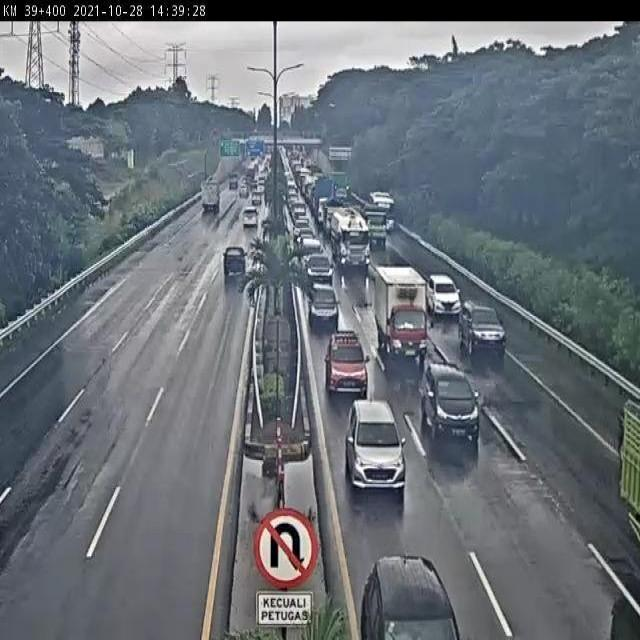big truck: (601, 380, 640, 559), (321, 202, 374, 274)
car: (352, 530, 456, 640), (334, 380, 407, 487), (403, 347, 477, 442), (322, 324, 368, 392), (459, 296, 507, 361), (425, 270, 458, 318), (306, 276, 338, 325), (301, 250, 335, 286), (237, 205, 264, 243), (220, 243, 250, 276), (242, 190, 269, 210), (232, 181, 252, 200)
small truck: (372, 269, 433, 364), (361, 199, 388, 252), (194, 173, 224, 216)
